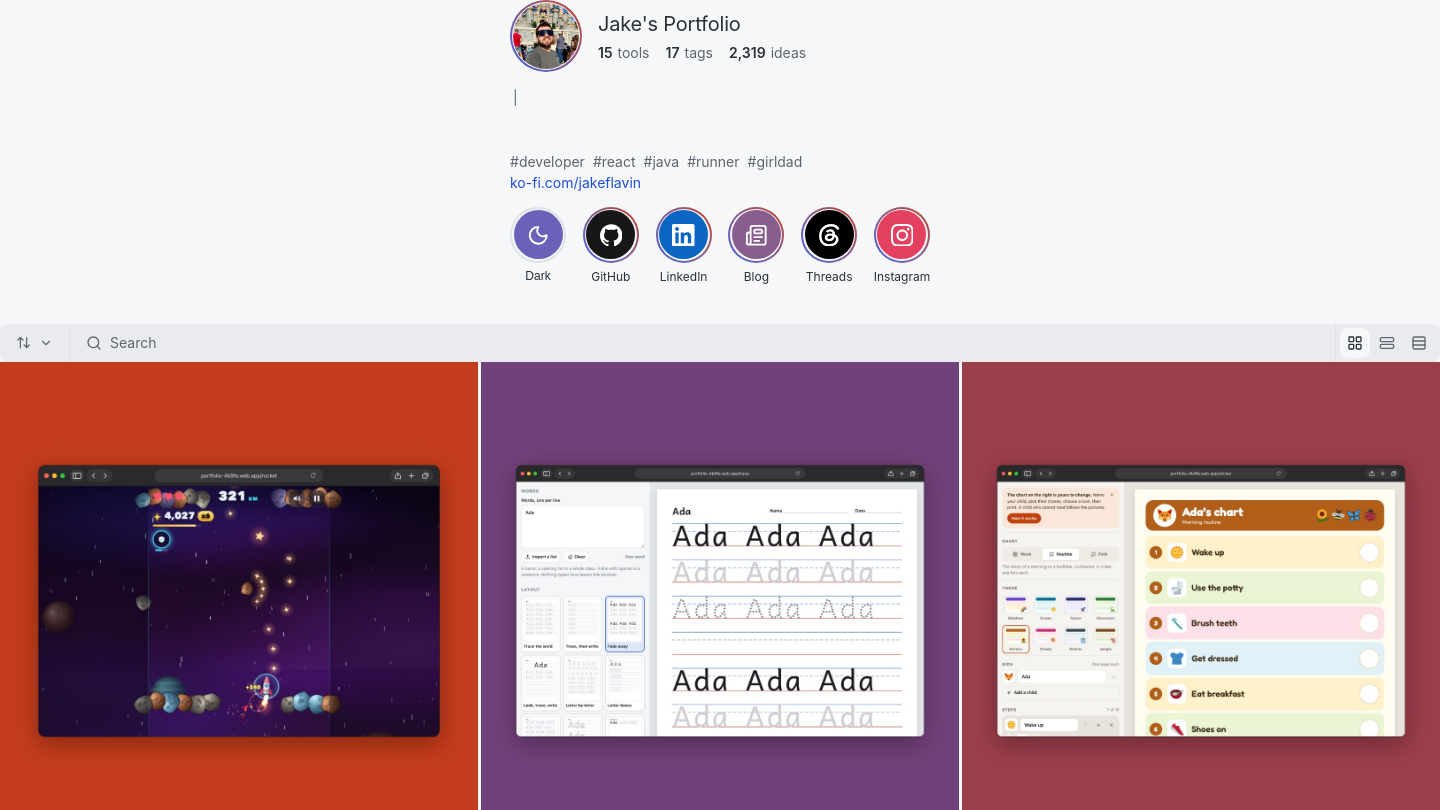
it: Home layouts › shows one row per project in list view
Click the button named "List view".
click(1419, 343)  # box [1404,328,1434,358]
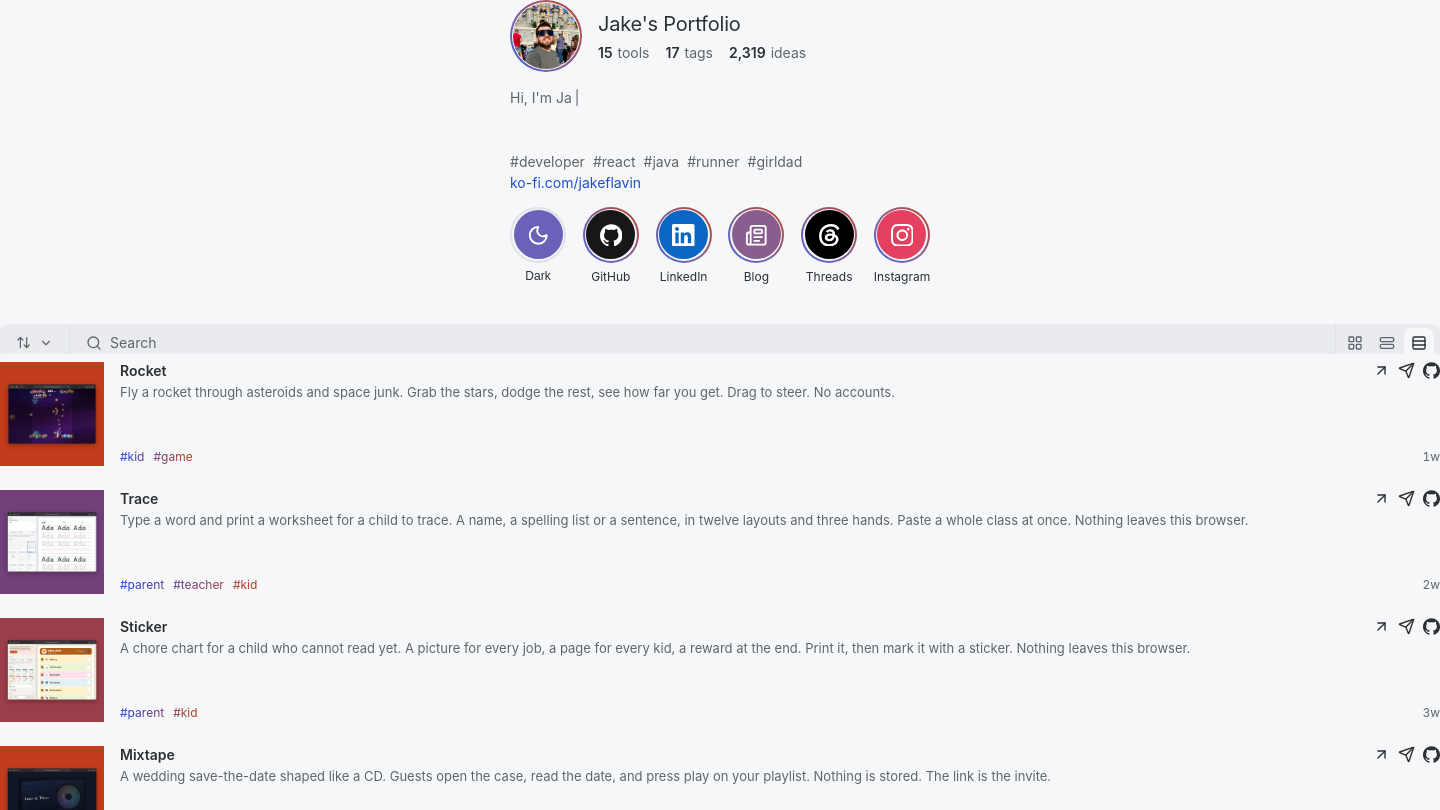
Expected: the text "A wedding save-the-date shaped like a CD. Guests open the case, read the date, and press play on your playlist. Nothing " is shown, [120,768,1051,784]
Expected: the button named "copy link" is shown, [1398,746,1415,763]
Expected: the text "A chore chart for a child who cannot read yet. A picture for every job, a page for every kid, a reward at the end. Print" is shown, [120,640,1190,656]
